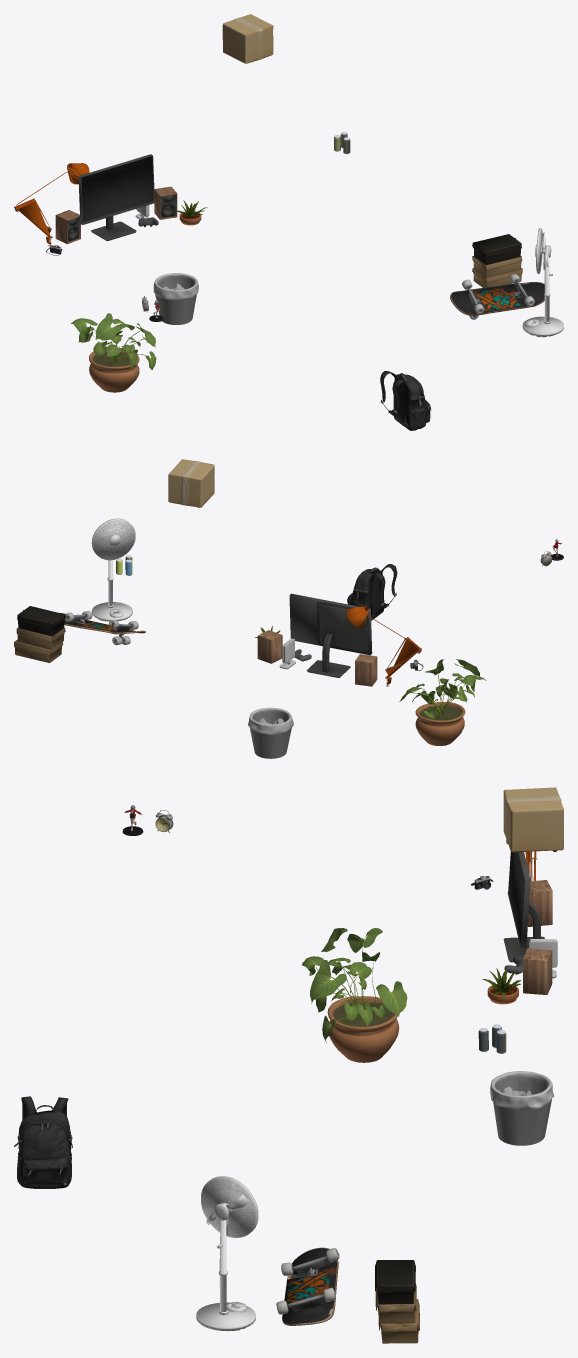
File: props_tripo2.glb
3 views of the same model, one above another, from view 1: azimuth 30°, elevation 25°; view 2: azimuth 150°, elevation 25°; view 3: azimuth 270°, elevation 25° (orthographic). The views are drawn at different scales.
Parts seen in each view (by area): view 1: object 2, T2_lamp; view 2: object 2, T2_lamp; view 3: object 2.
Boxes of the visible parts, left/top/right/bottom form: object 2: left=46, top=14, right=563, bottom=430; T2_lamp: left=14, top=163, right=89, bottom=246; object 2: left=14, top=459, right=563, bottom=758; T2_lamp: left=346, top=606, right=421, bottom=686; object 2: left=14, top=787, right=563, bottom=1343.
Size of the model in its own units: 3.91 by 2.22 by 2.83.
1 material, 1 textured.
